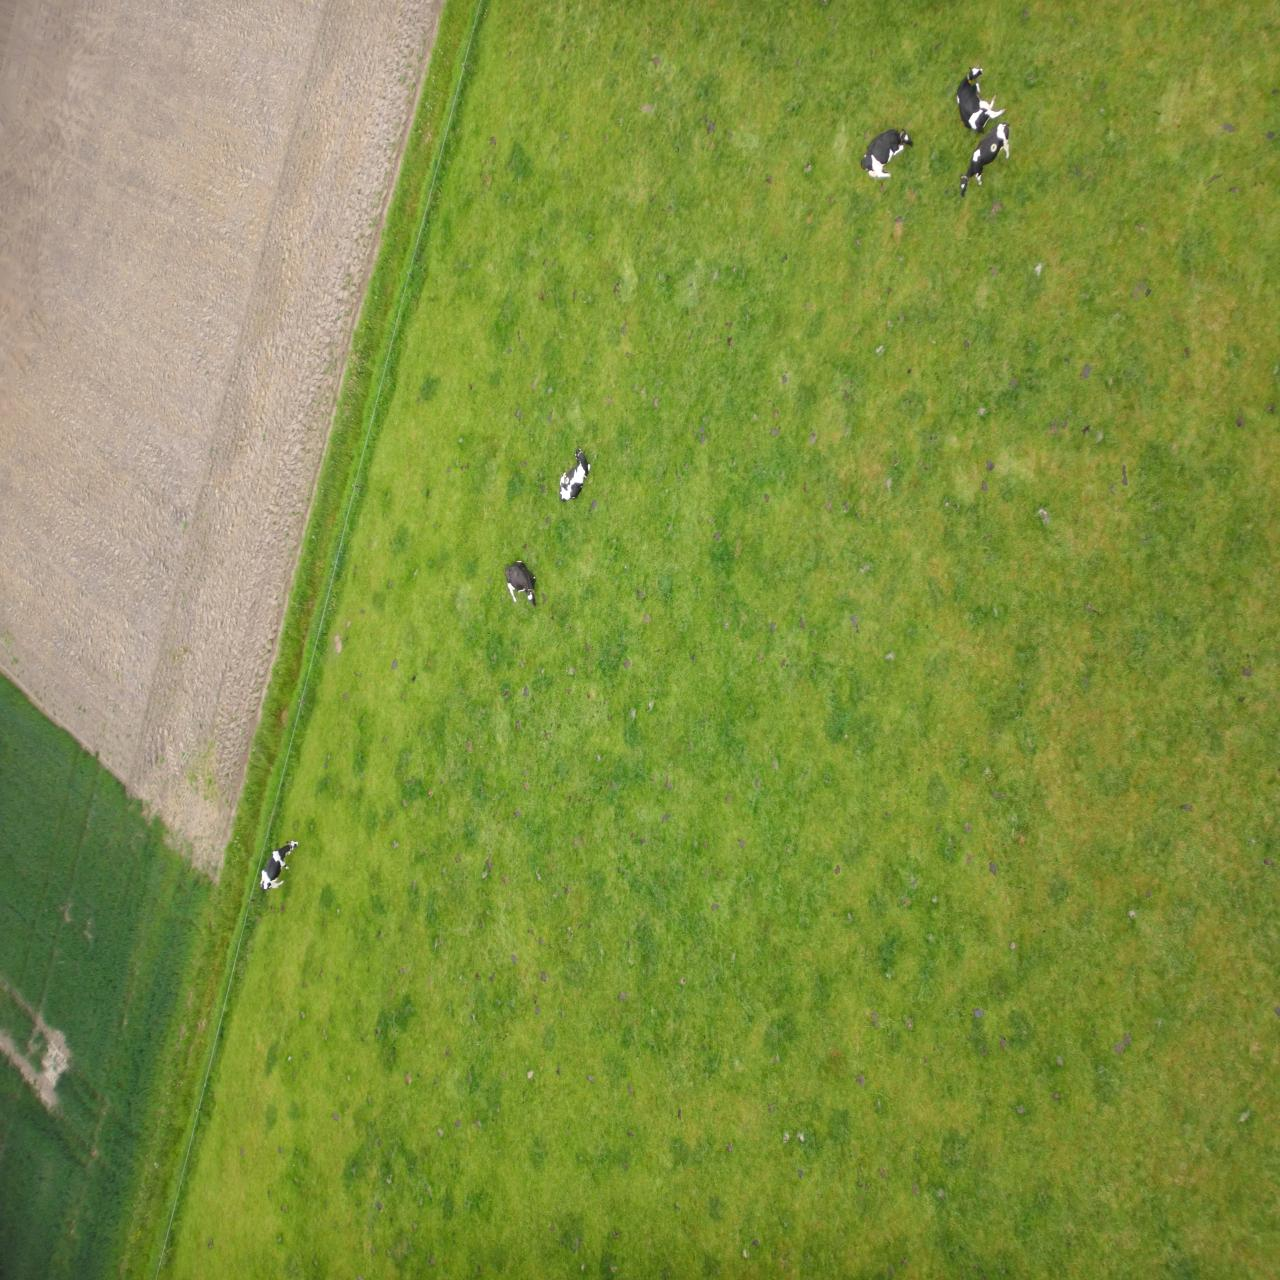cow: (270, 1082, 320, 1158), (273, 1146, 324, 1212), (366, 1102, 420, 1151), (982, 390, 1020, 440), (689, 778, 721, 832), (743, 672, 775, 720)
